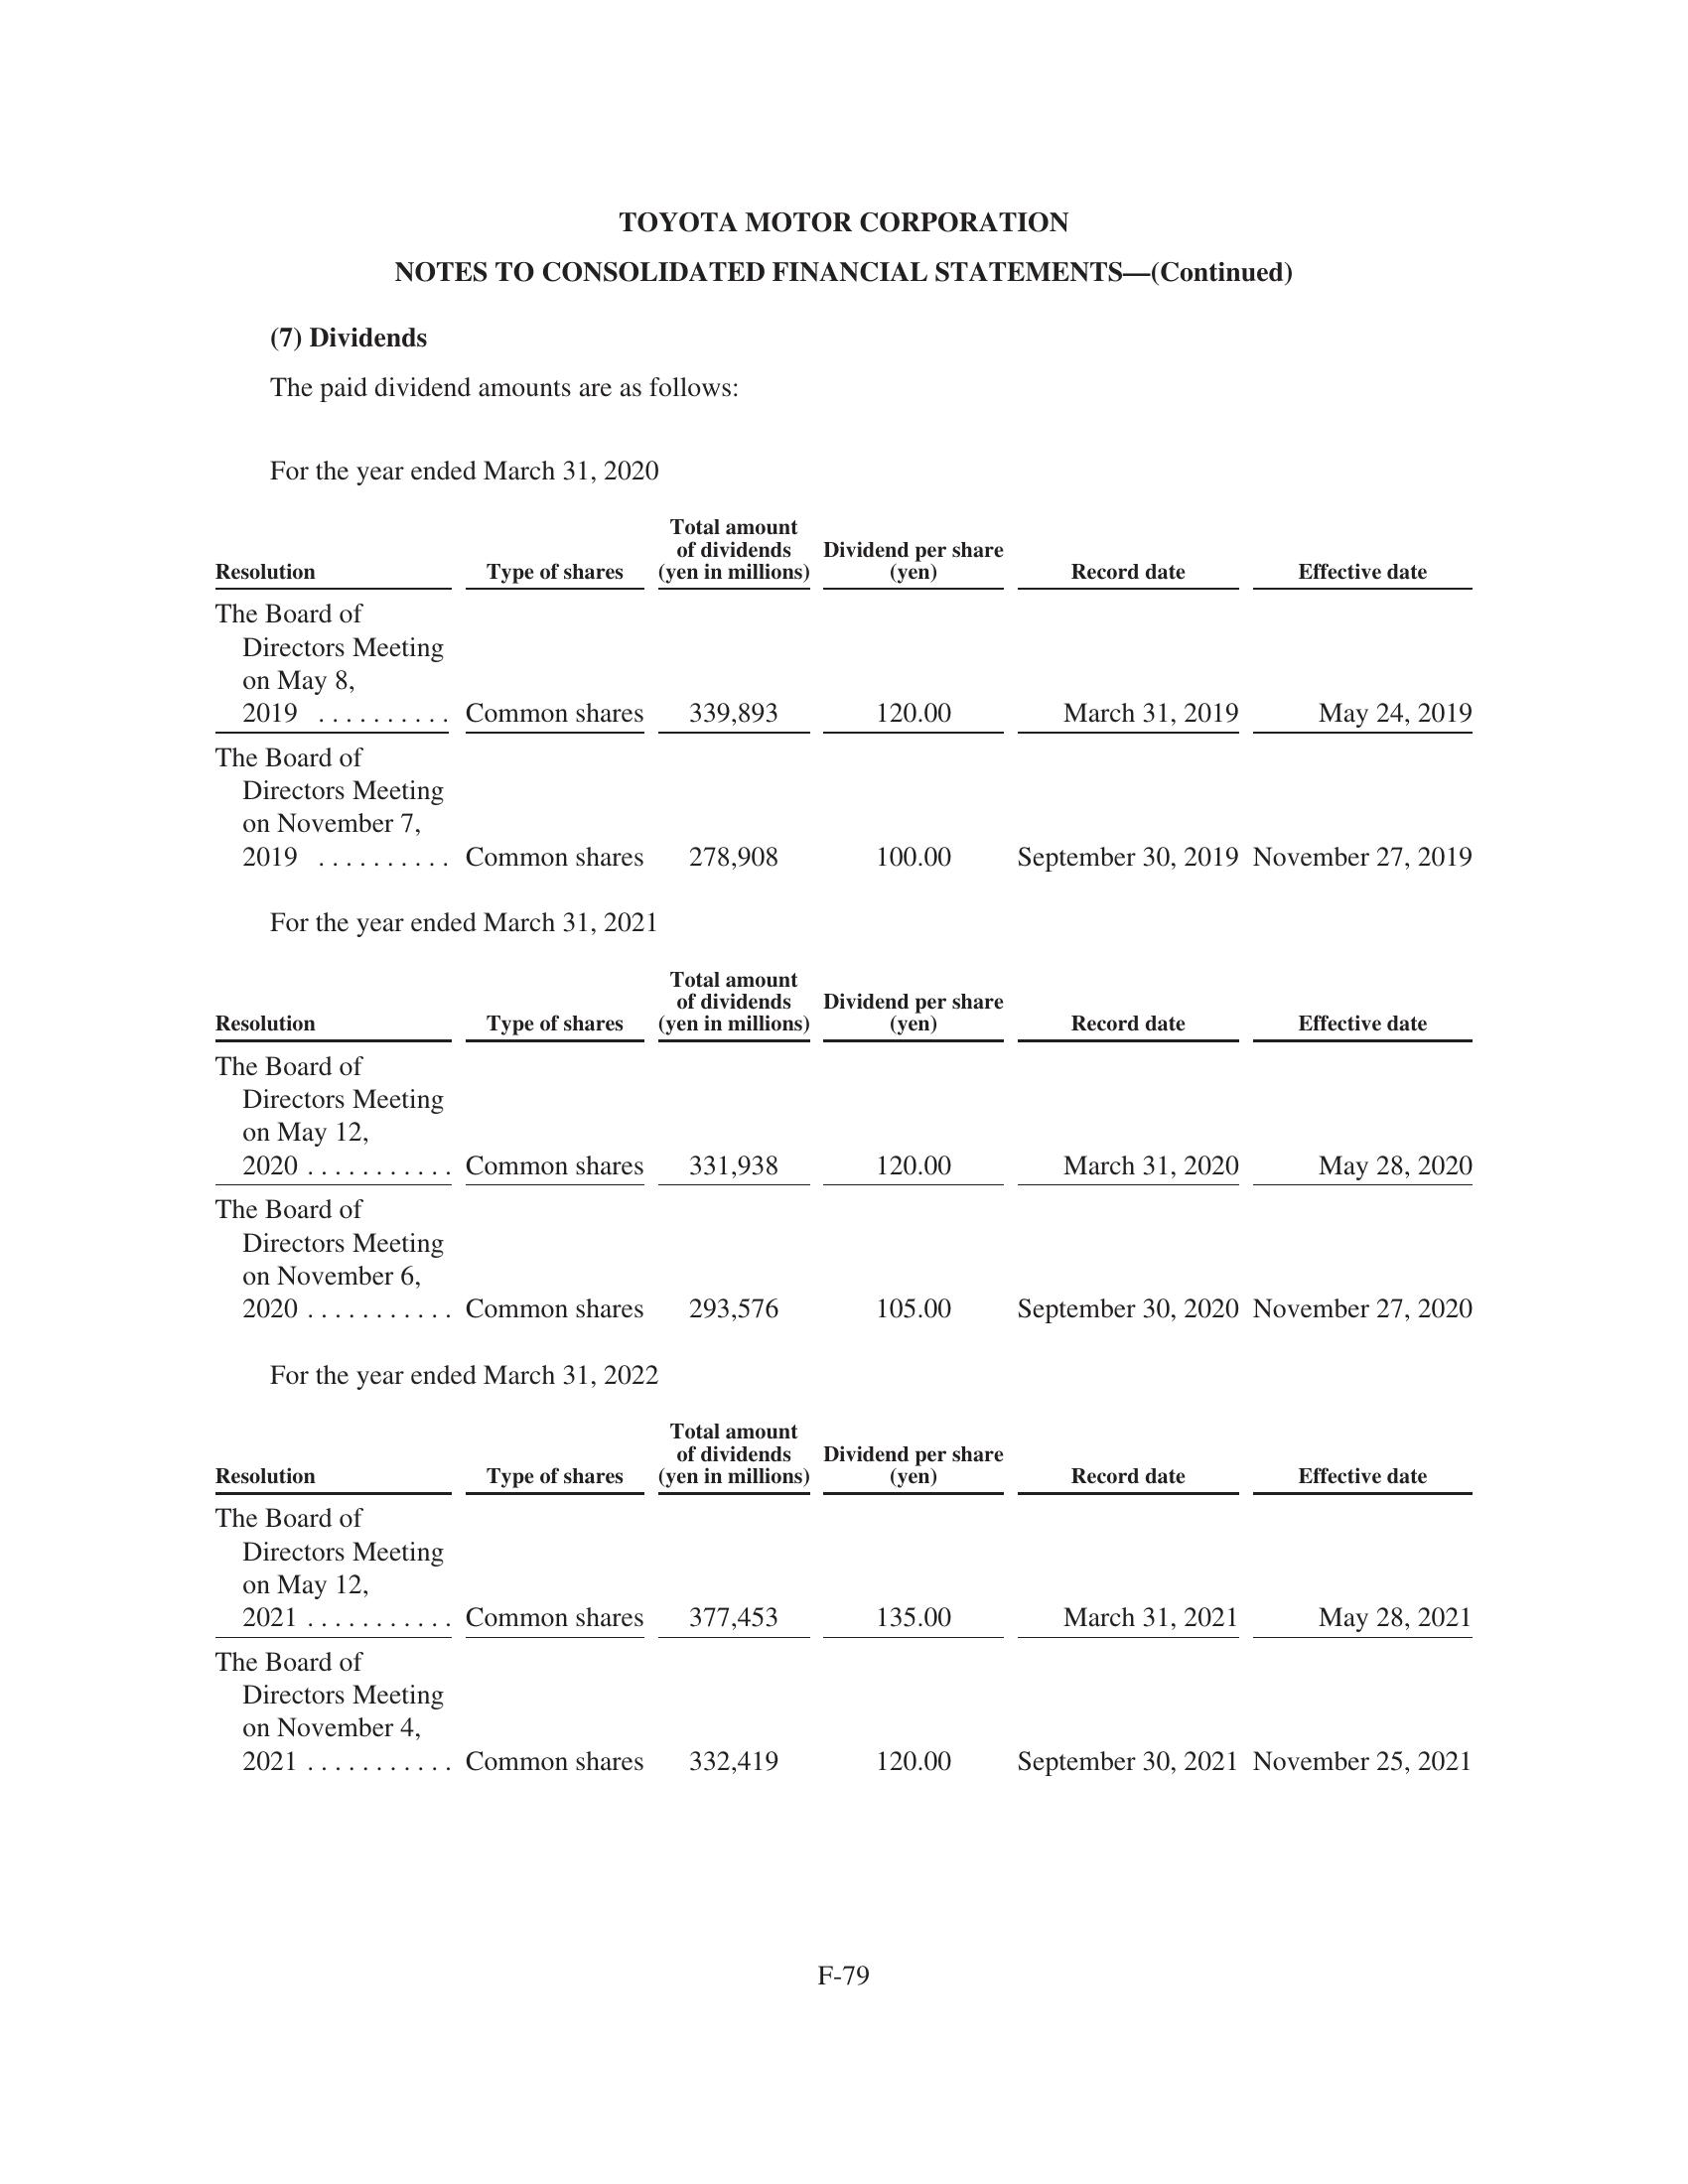Footer: (0, 1946, 1688, 2184)
Header: (0, 0, 1688, 167)
Table: (163, 1392, 1500, 1810), (154, 498, 1546, 890), (197, 971, 1512, 1337)
